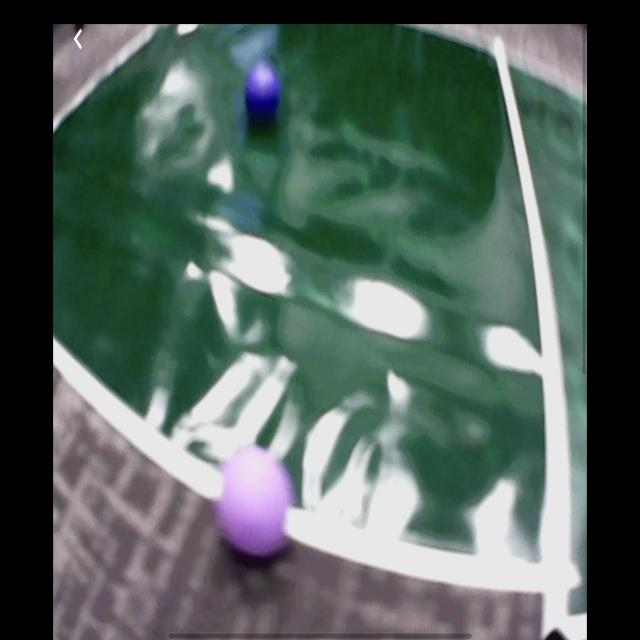ball: (220, 447, 286, 556), (243, 64, 280, 120)
